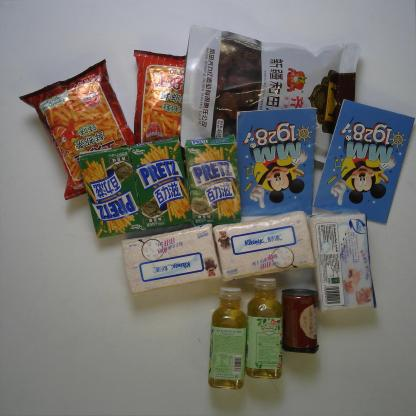Canned Food: (281, 288, 320, 355)
Dessert: (78, 144, 146, 240), (129, 136, 194, 232), (184, 133, 242, 227)
Dried Food: (179, 23, 363, 166)
Drink: (207, 286, 248, 390), (244, 276, 284, 380)
Puffed Food: (18, 58, 135, 201), (133, 49, 187, 144)
Stationery: (312, 99, 416, 226), (236, 106, 318, 218)
Tissue: (212, 208, 316, 284), (120, 223, 222, 296), (308, 208, 377, 314)
